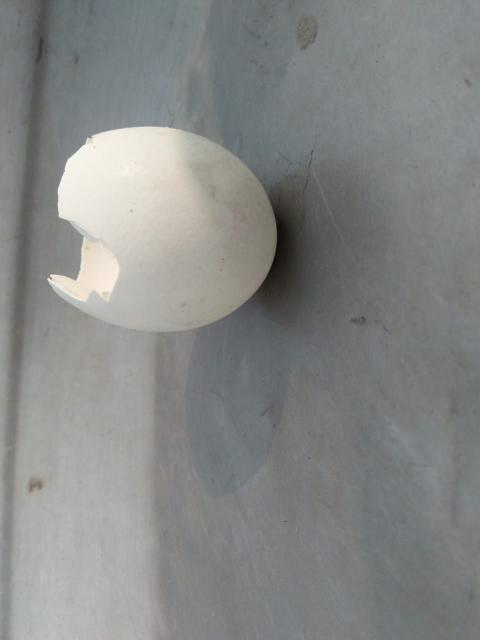Roto: (47, 124, 278, 332)
